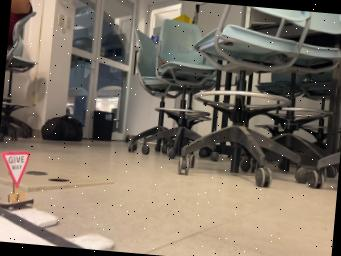give_way: (0, 152, 33, 211)
street: (0, 208, 83, 249)
